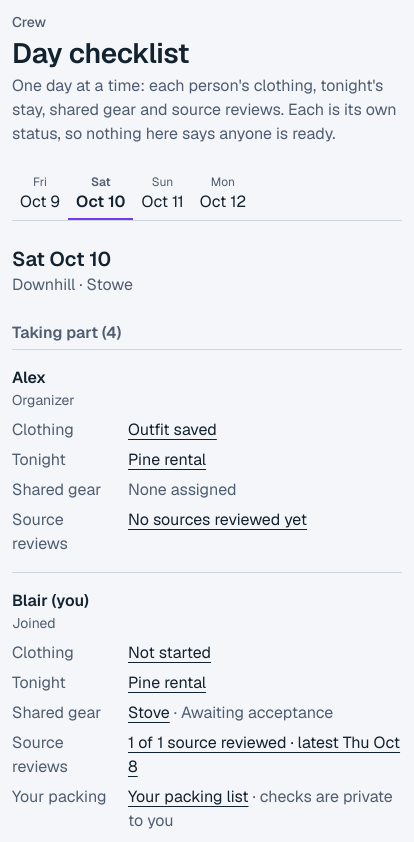
Day checklist page (#336) › reads the checklist again on coming back to the tab, keeping the chosen day, and ignores an older answer that arrives late
Click the button "Sun Oct 11".
click(162, 195)  # box [133,170,192,220]
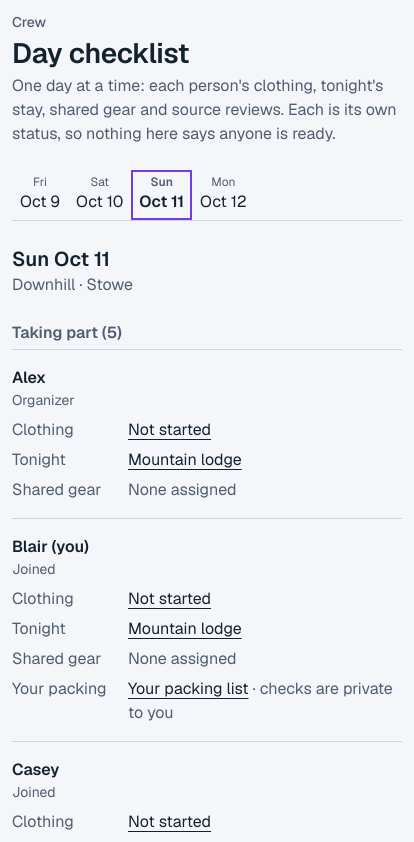
Check: the button "Sun Oct 11" is pressed, box [131,170,192,220]
Click the button "Sat Oct 10".
click(100, 195)  # box [68,170,131,220]
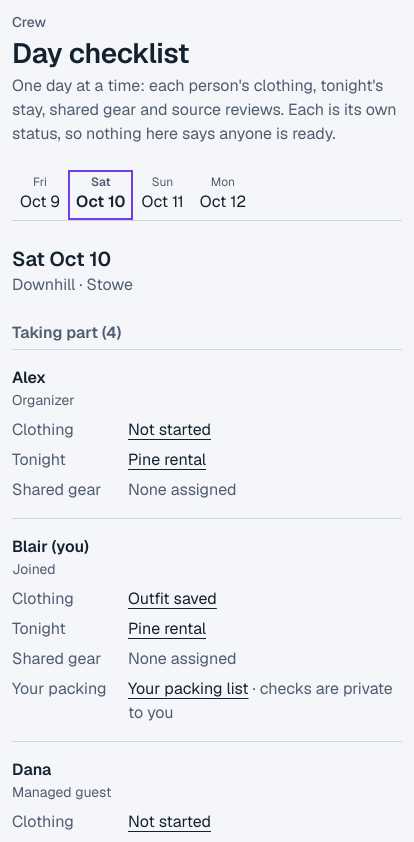
Check: the link with aria-label "Blair's clothing for Sat Oct 10: Outfit saved" is shown, box [128,588,217,609]
